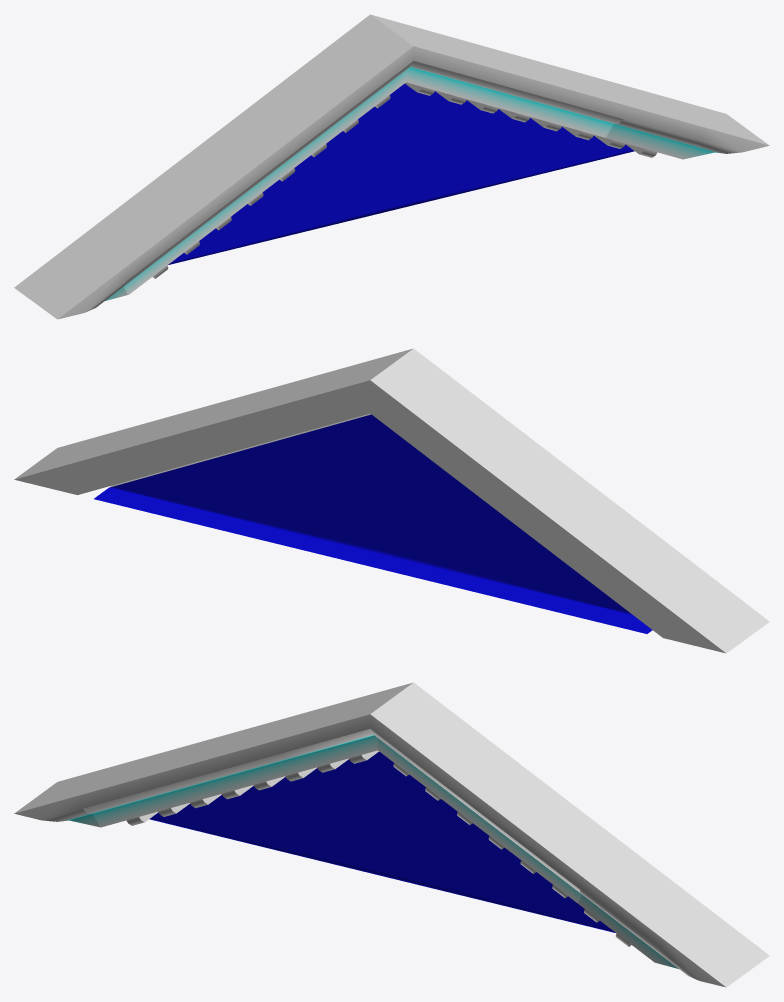
File: SM_RoofEnd8m.fbx
3 views of the same model, one above another, from view 1: azimuth 30°, elevation 25°; view 2: azimuth 150°, elevation 25°; view 3: azimuth 330°, elevation 25° (orthographic).
Parts seen in each view (by area): view 1: SM_RoofEnd8m; view 2: SM_RoofEnd8m; view 3: SM_RoofEnd8m.
Boxes of the visible parts, x1,y1,x2,y2 form: SM_RoofEnd8m: (14,14,769,319); SM_RoofEnd8m: (14,348,769,653); SM_RoofEnd8m: (14,682,769,987).
Bounding box in the file's own units: 1004 × 251 × 106.
